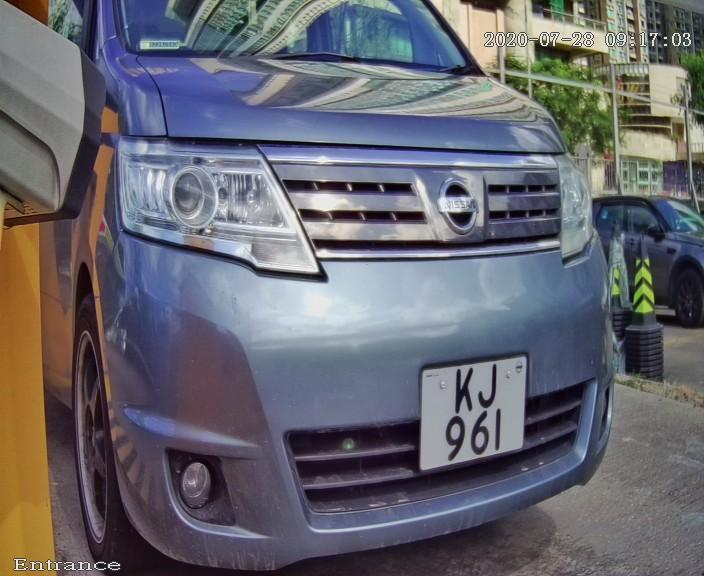privatecar: (32, 11, 679, 564)
